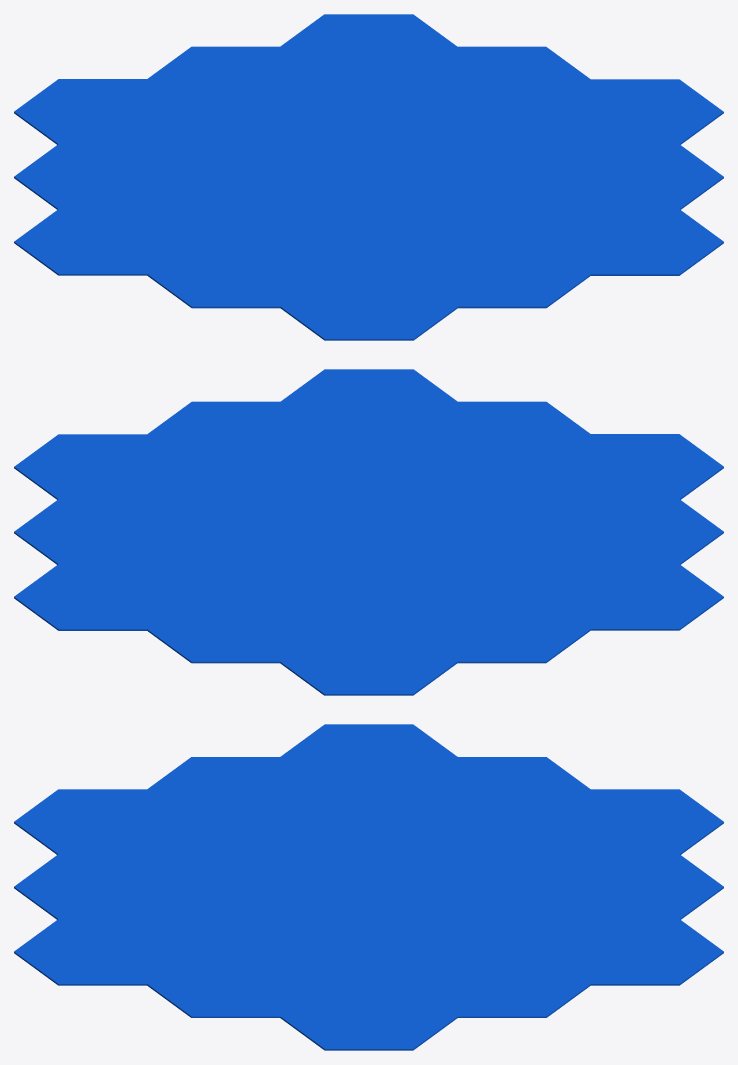
The model's file is Attack_eau.fbx.
3 renders of one model, top to bottom at view 1: azimuth 30°, elevation 25°; view 2: azimuth 150°, elevation 25°; view 3: azimuth 270°, elevation 25°, orthographic.
Visible parts, largest first — view 1: Cylinder.004; view 2: Cylinder.004; view 3: Cylinder.004.
Boxes of the visible parts, x1,y1,x2,y2 form: Cylinder.004: [14, 14, 723, 340]; Cylinder.004: [14, 369, 723, 695]; Cylinder.004: [14, 724, 723, 1050].
Size of the model in its own units: 8652 by 20 by 8000.
